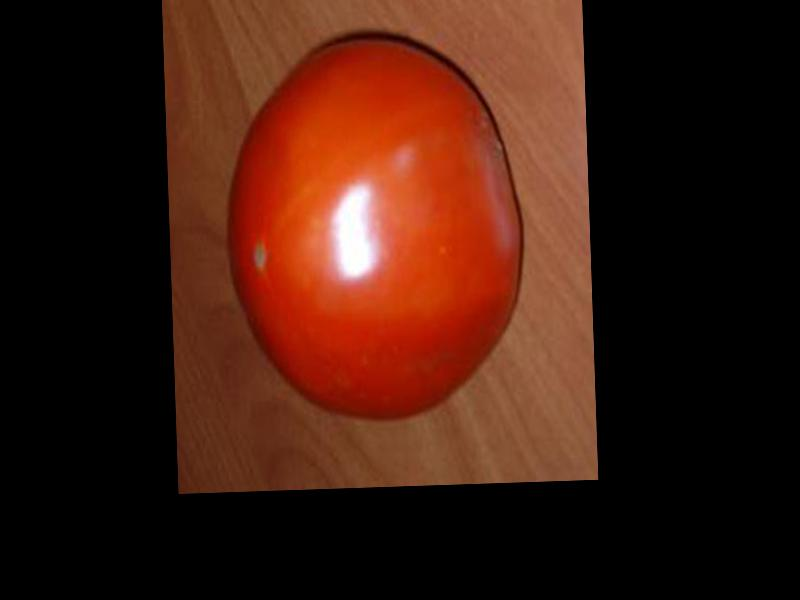Tomato: (219, 27, 526, 429)
